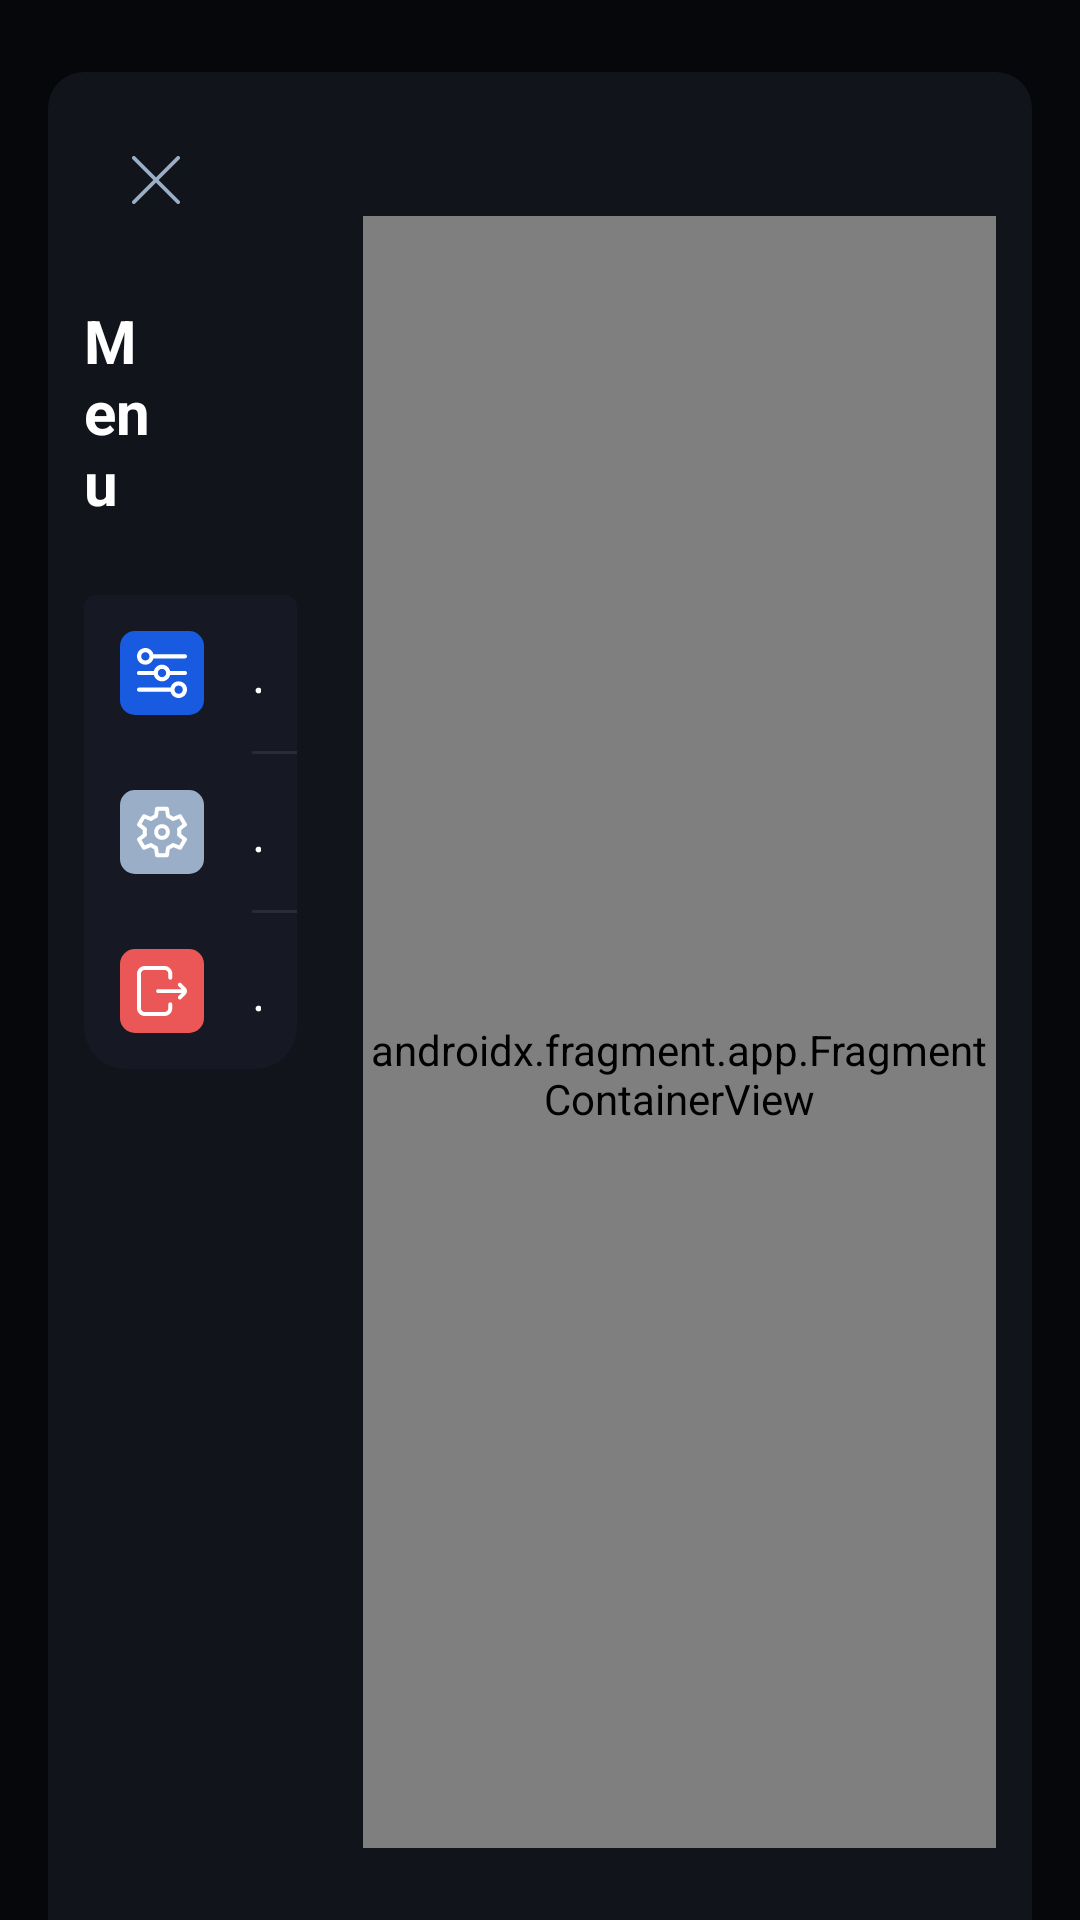

Screen size 1080w x 1920h. Icon name, then its box in pixels as (x1, y1, x2, y2):
close: (132, 156, 180, 204)
